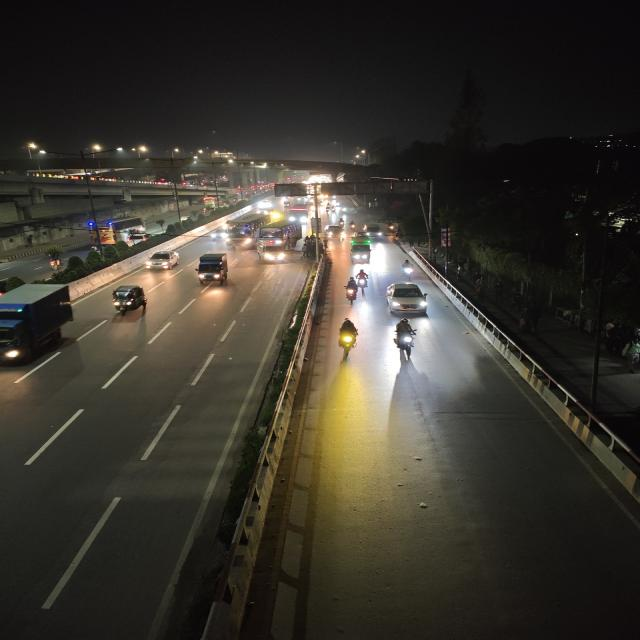bus: (90, 216, 146, 244), (226, 218, 260, 249), (259, 222, 296, 243), (201, 194, 226, 208), (287, 206, 306, 224)
car: (383, 282, 431, 316), (143, 249, 181, 272), (252, 241, 288, 265), (364, 224, 386, 240), (323, 224, 345, 240), (126, 231, 149, 246), (210, 228, 228, 243)
cng: (106, 282, 150, 320)
motorcycle: (389, 317, 421, 357), (334, 316, 361, 360), (343, 275, 361, 305), (397, 259, 418, 281), (355, 268, 372, 290), (348, 220, 359, 233)
truck: (0, 279, 75, 366), (194, 251, 232, 287), (349, 236, 374, 265)
